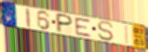6: (36, 10, 52, 32)
E: (74, 17, 93, 38)
I: (25, 7, 32, 29), (125, 25, 130, 46)
P: (56, 13, 75, 34)
S: (97, 20, 115, 42)
